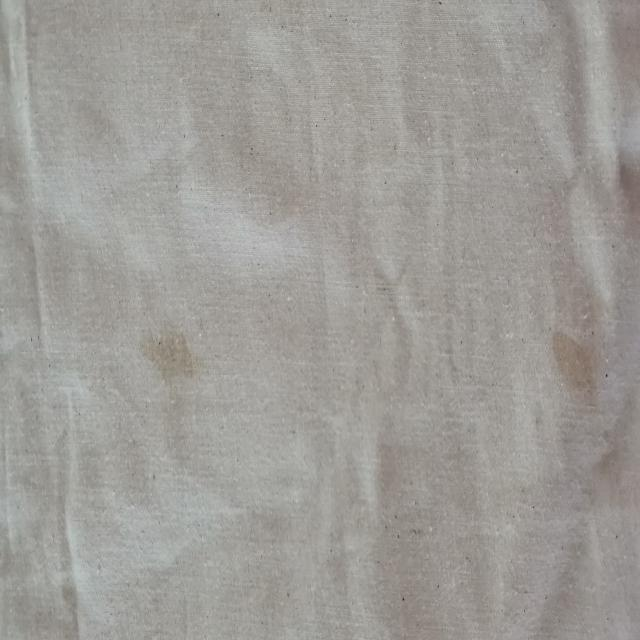taaaches: (132, 299, 202, 407), (547, 314, 600, 416)
